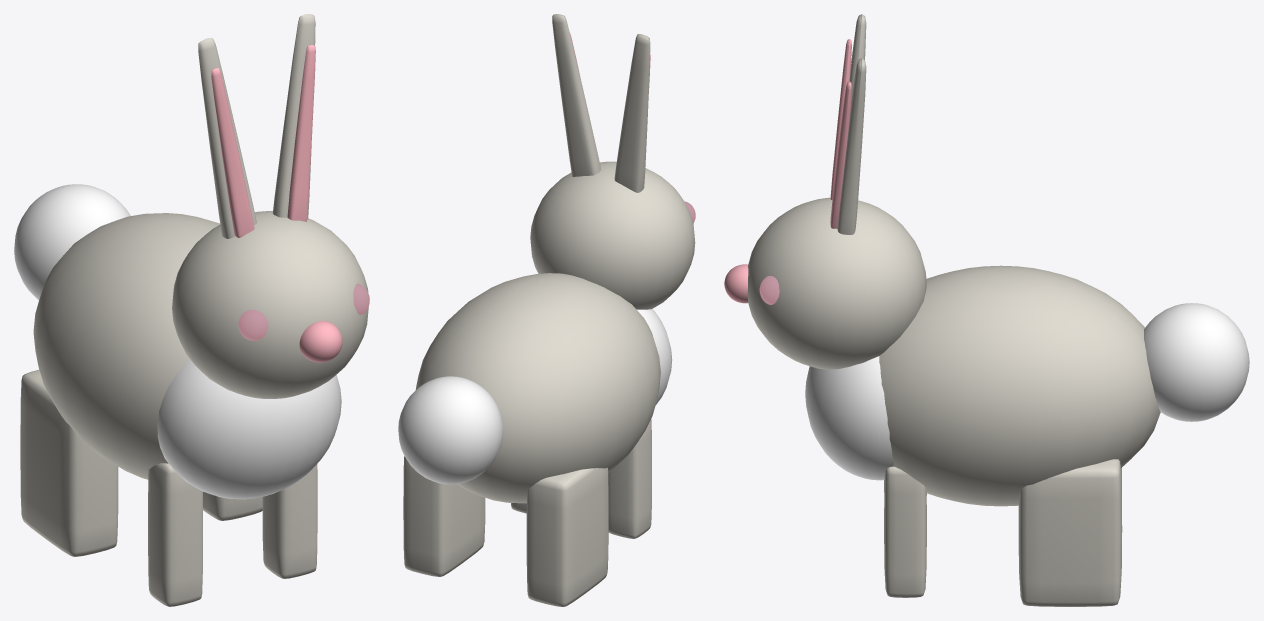
File: rabbit.glb
The picture shows the model from 3 angles, left to right: view 1: azimuth 30°, elevation 25°; view 2: azimuth 150°, elevation 25°; view 3: azimuth 270°, elevation 25°; orthographic projection. The views are drawn at different scales.
Visible parts, largest first — view 1: Body, Head, LeftLeg, LeftArm, Tail, RightArm, RightLeg; view 2: Body, Head, LeftLeg, Tail, RightLeg, LeftArm; view 3: Body, Head, RightLeg, Tail, RightArm.
Boxes of the visible parts, x1,y1,x2,y2 form: Body: (33,213,341,499); Head: (172,14,369,398); LeftLeg: (20,370,118,556); LeftArm: (148,463,202,606); Tail: (14,184,130,299); RightArm: (262,464,317,578); RightLeg: (203,491,262,520); Body: (415,273,672,503); Head: (530,14,695,309); LeftLeg: (526,467,608,606); Tail: (398,376,503,484); RightLeg: (403,456,485,576); LeftArm: (608,419,651,538); Body: (805,265,1160,506); Head: (724,14,926,369); RightLeg: (1018,459,1122,606); Tail: (1144,303,1249,421); RightArm: (884,466,926,597).
Bounding box in the file's own units: 0.5707 × 1.35 × 1.21.
